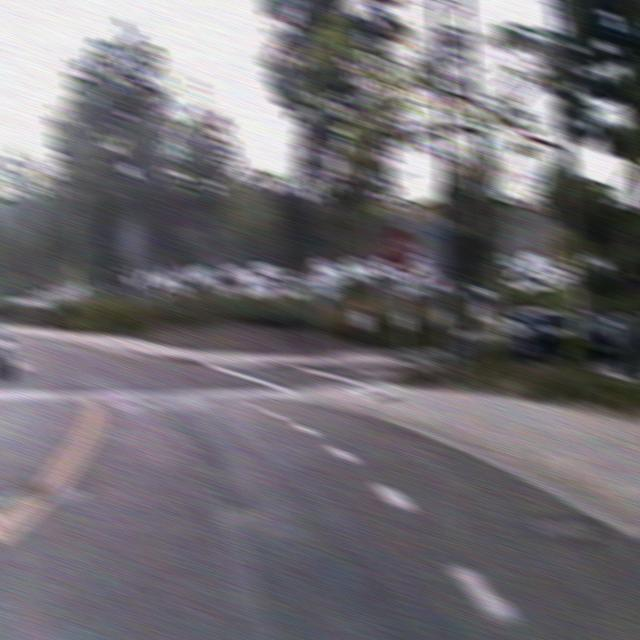stop: (380, 223, 418, 270)
